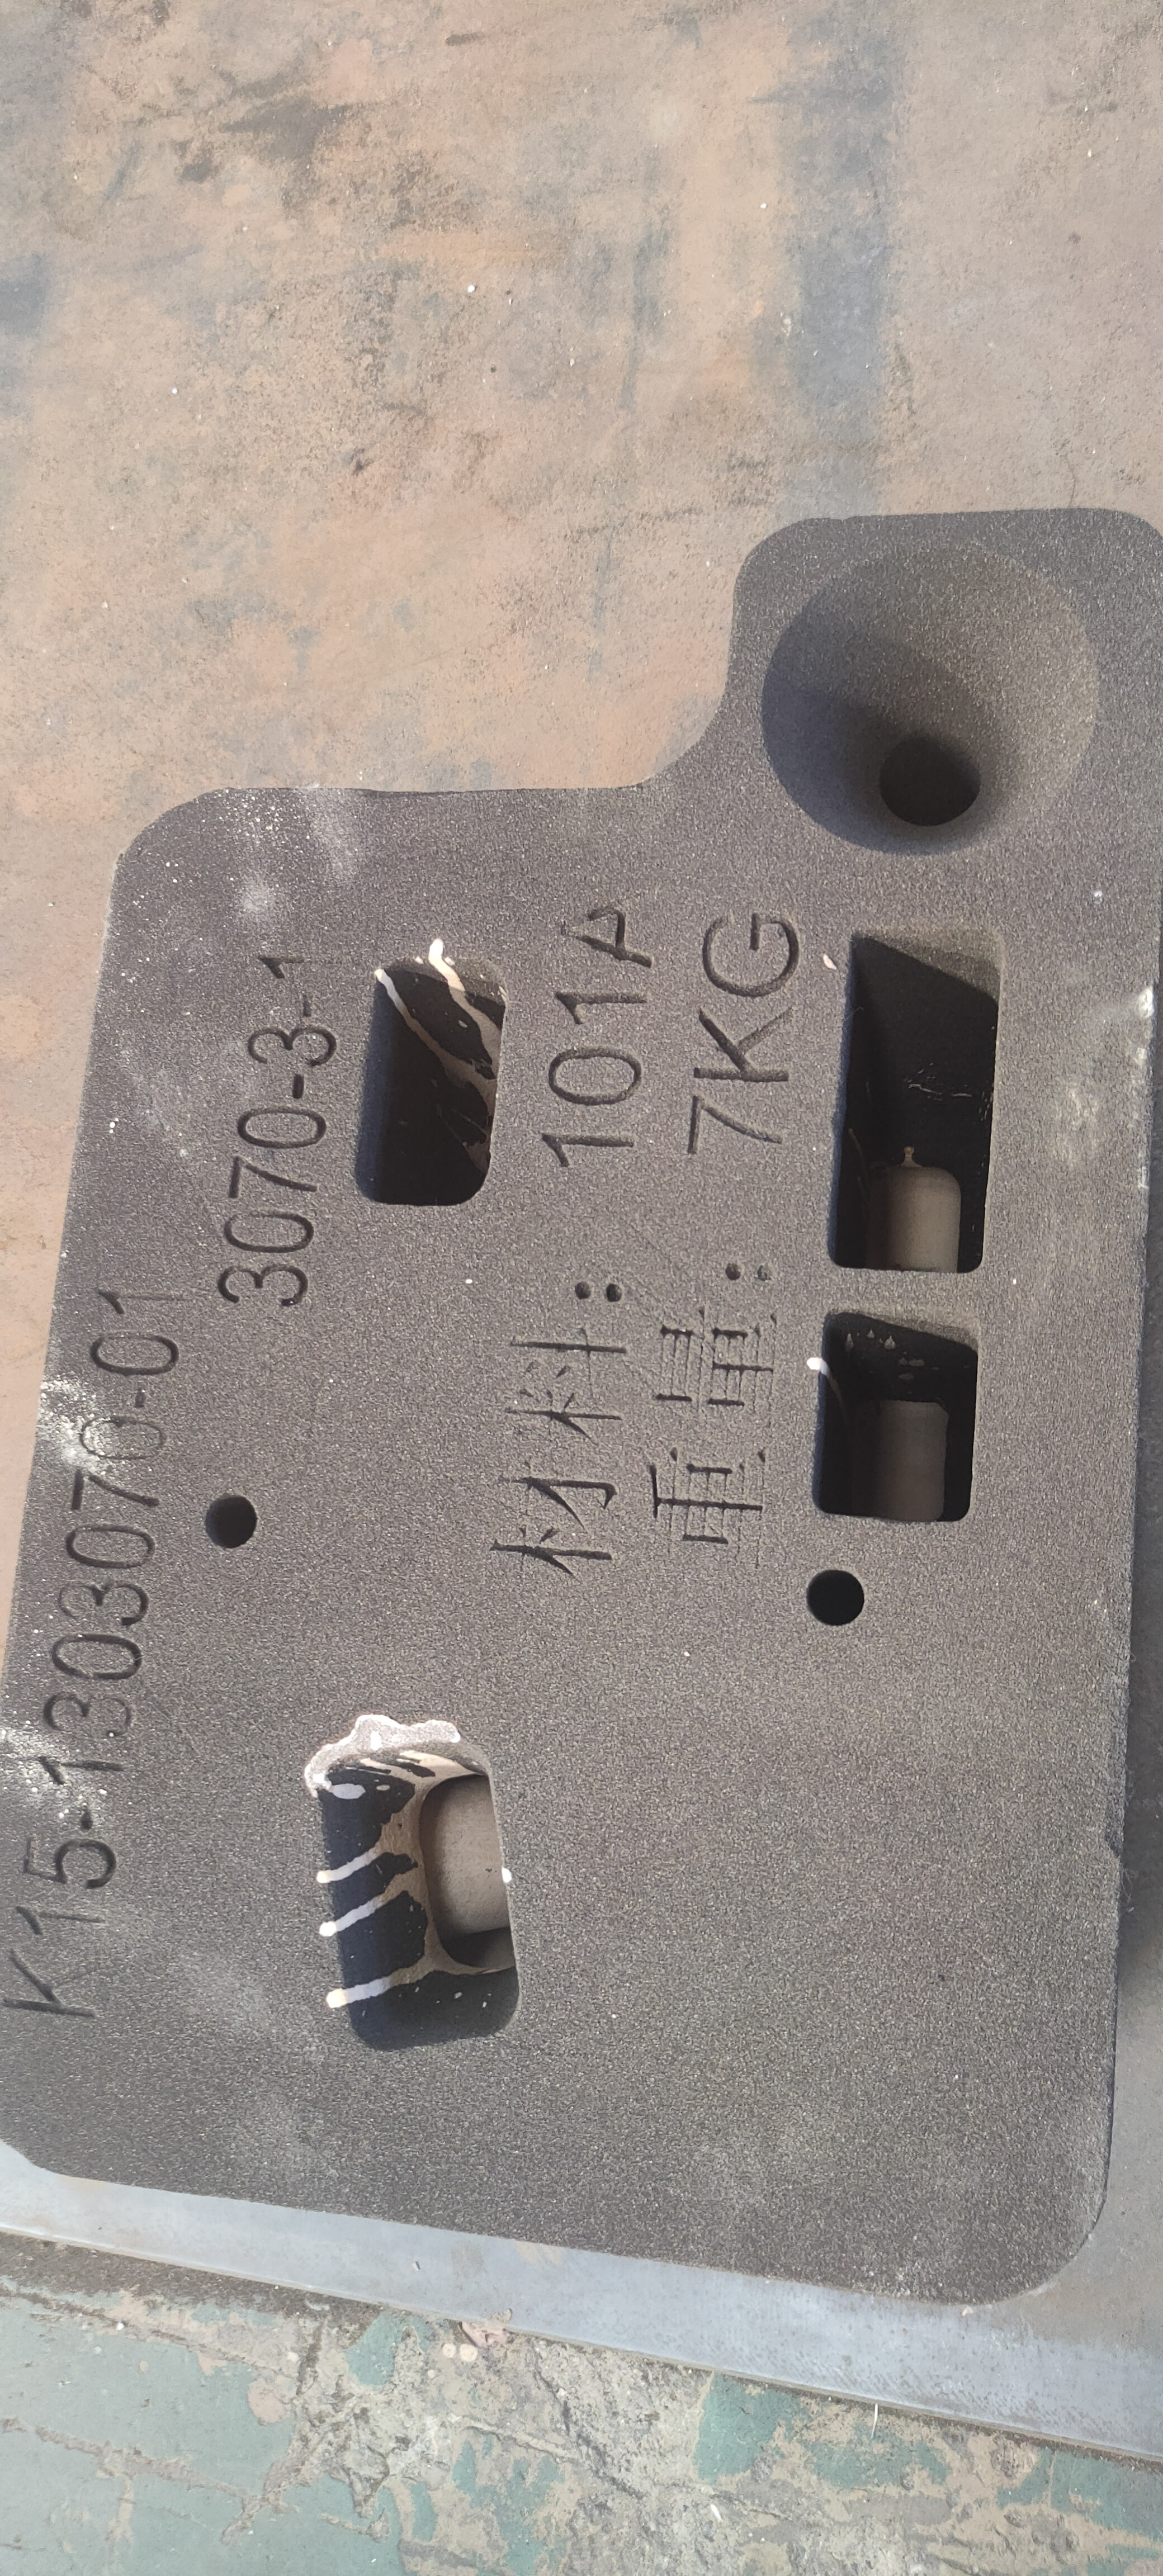pouring hole: (761, 545, 1099, 854)
